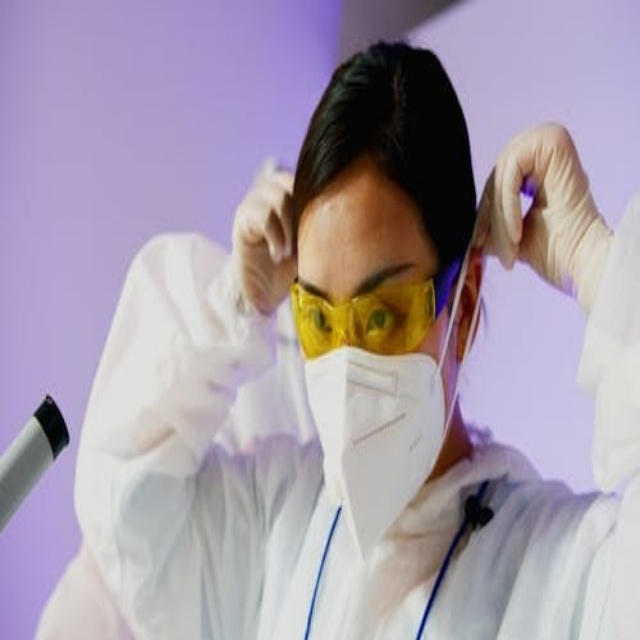Gafas: (288, 260, 454, 360)
Guantes: (479, 123, 614, 315), (230, 159, 302, 322)
Mascara: (302, 218, 474, 564)
